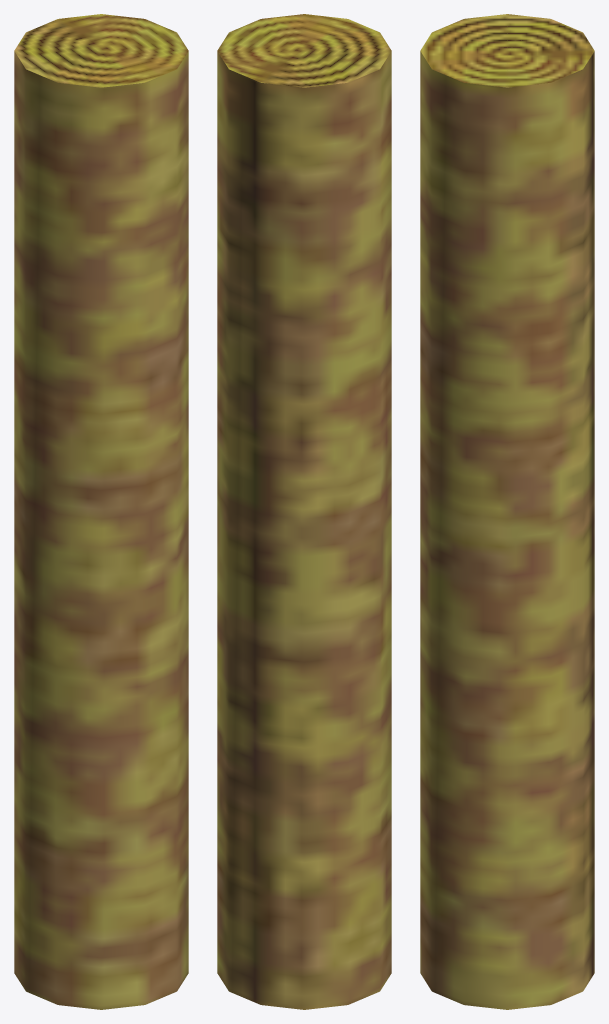
The model's file is CarpetRoll02.glb.
3 renders of one model, left to right at view 1: azimuth 30°, elevation 25°; view 2: azimuth 150°, elevation 25°; view 3: azimuth 270°, elevation 25°, orthographic.
Parts seen in each view (by area): view 1: CARPETROLL02; view 2: CARPETROLL02; view 3: CARPETROLL02.
Boxes of the visible parts, bbox=[...] form: CARPETROLL02: bbox=[14, 14, 188, 1009]; CARPETROLL02: bbox=[217, 14, 391, 1009]; CARPETROLL02: bbox=[420, 14, 594, 1009].
Bounding box in the file's own units: 0.3 × 1.75 × 0.3.
1 material, 1 textured.
